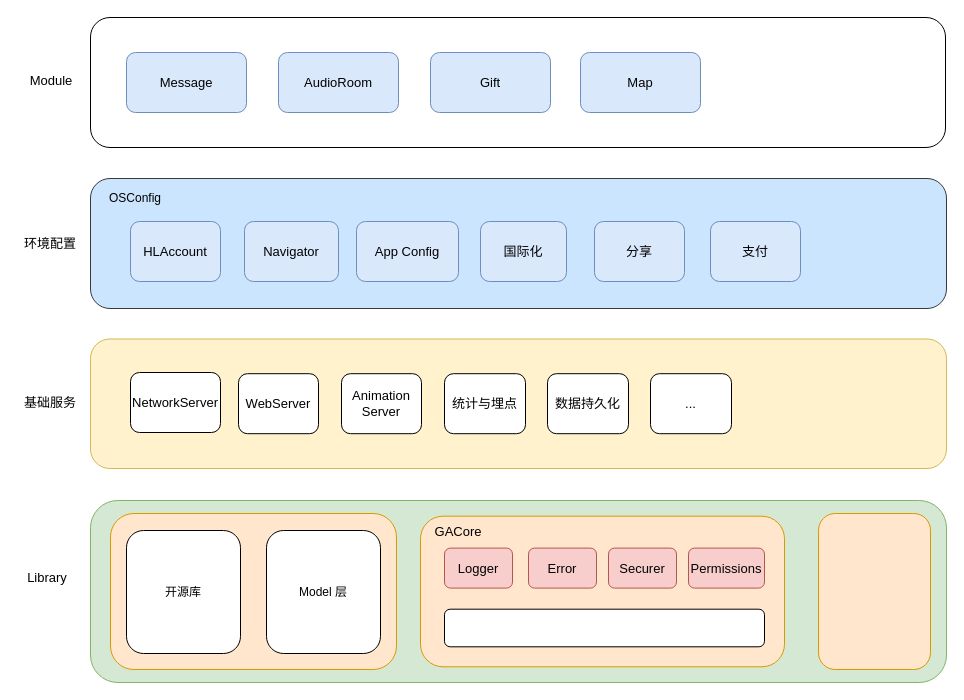
Some shapes in this 964 by 700 pixel diagram are drawn without their labels. Here are the shapes that lost their labels. From the top down, the centre of each, then its label:
point 874,591: GAUI
point 604,627: Extension Utils
